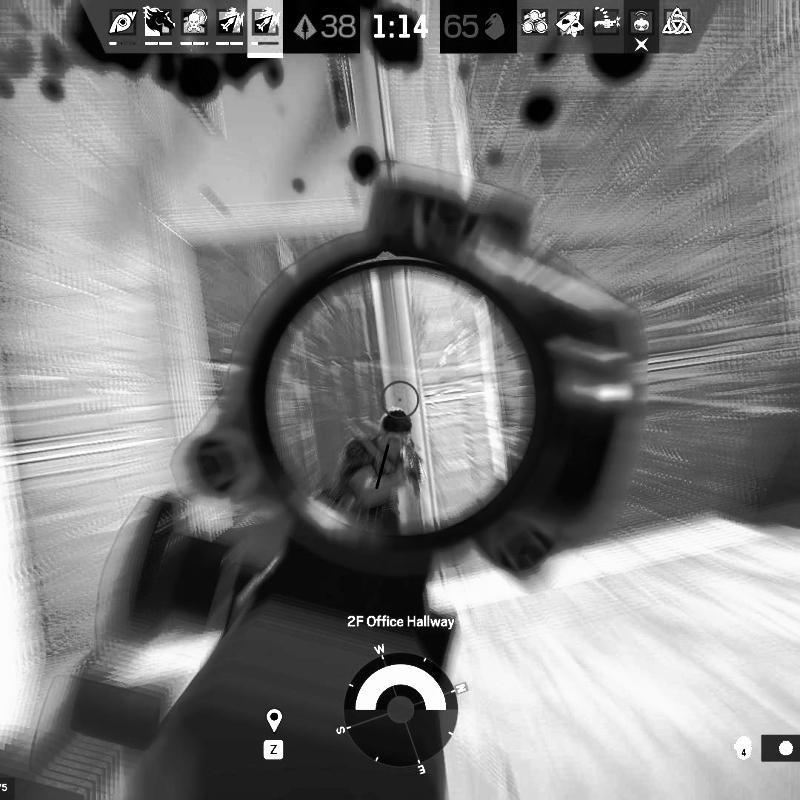Character: (323, 409, 422, 536)
Head: (382, 410, 414, 451)
